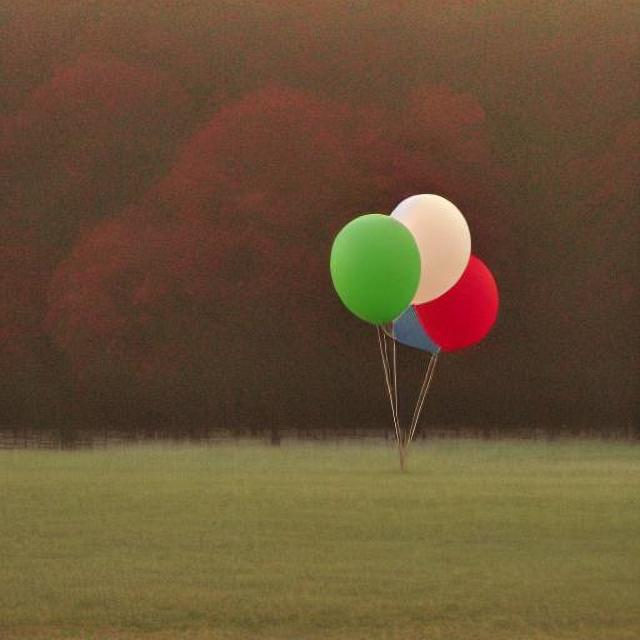balloon: (323, 203, 490, 349)
